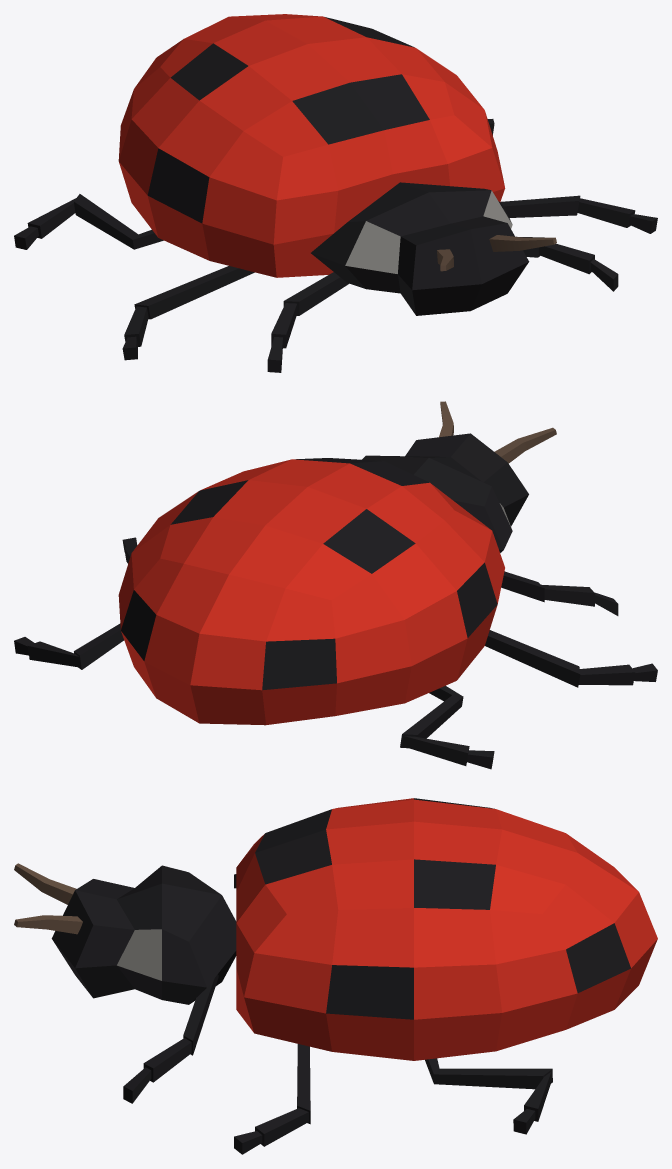
The model's file is Mesh_Ladybug.obj.
The picture shows the model from 3 angles, top to bottom: view 1: azimuth 30°, elevation 25°; view 2: azimuth 150°, elevation 25°; view 3: azimuth 270°, elevation 25°; orthographic projection. The views are drawn at different scales.
Visible parts, largest first — view 1: Geo_Ladybug; view 2: Geo_Ladybug; view 3: Geo_Ladybug.
Part boxes in pixels (x1,y1,x2,y2): Geo_Ladybug: (14,14,657,372); Geo_Ladybug: (14,401,657,769); Geo_Ladybug: (14,798,657,1154).
Size of the model in its own units: 55.37 by 18.87 by 55.49.
1 material, 1 textured.
